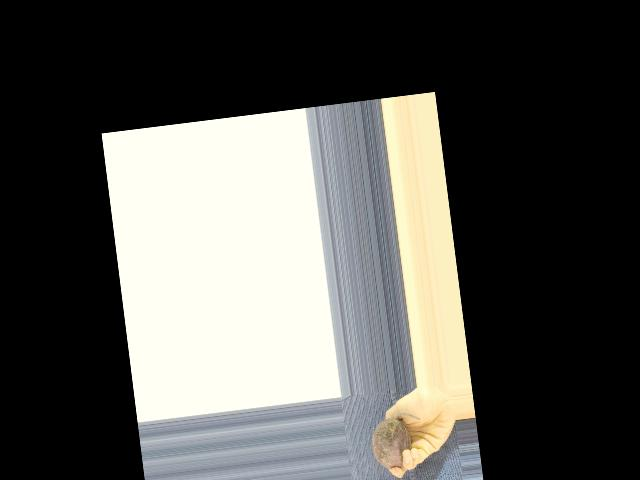beet: (369, 409, 426, 470)
